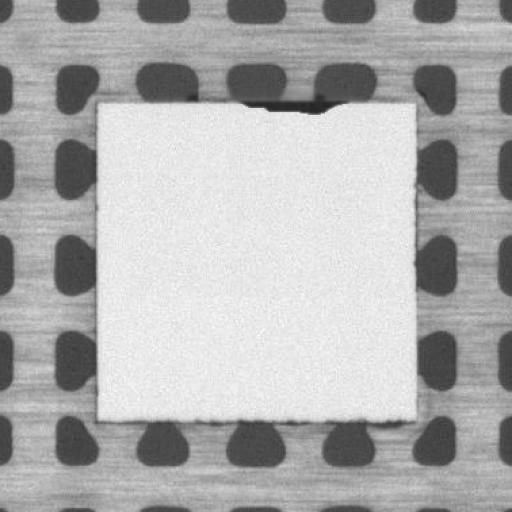DIE_BROKEN: (233, 94, 345, 114)
